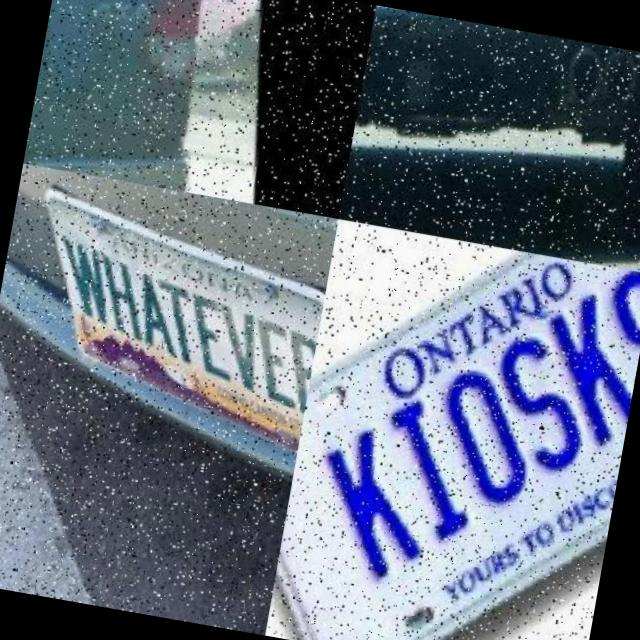LicensePlate: (271, 218, 640, 640), (47, 188, 325, 449), (32, 0, 105, 115), (368, 5, 483, 69)
